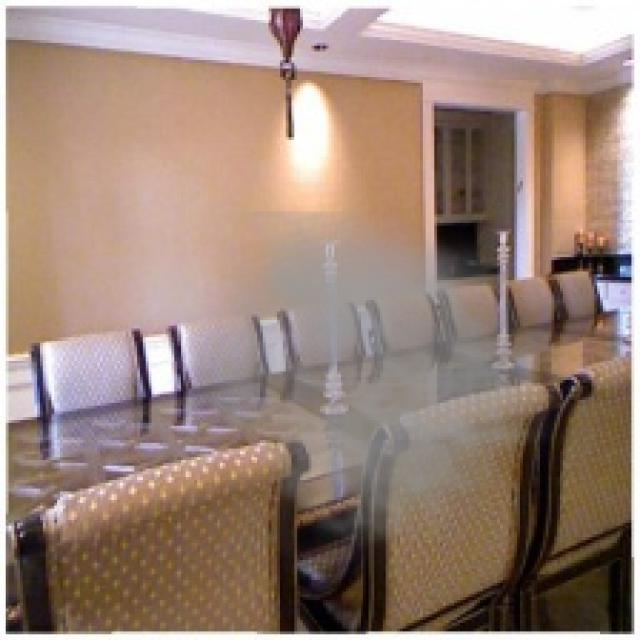Smoke: (168, 211, 578, 583)
